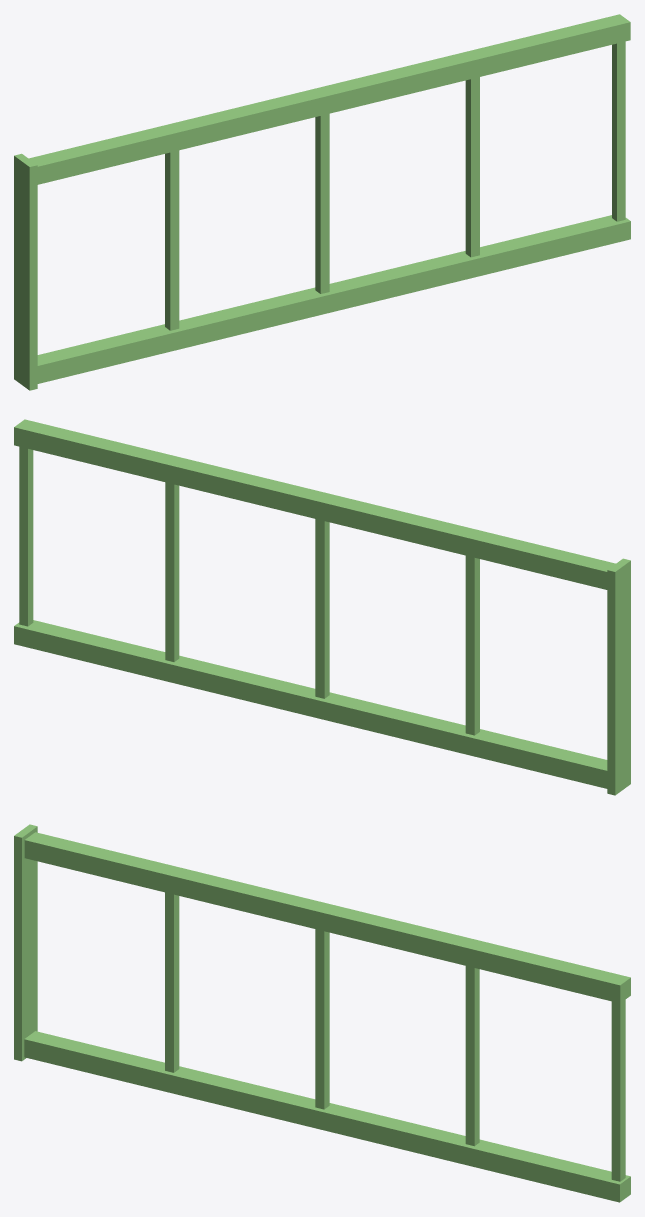
The model's file is Platform_Rail_Mid.fbx.
The picture shows the model from 3 angles, top to bottom: view 1: azimuth 30°, elevation 25°; view 2: azimuth 150°, elevation 25°; view 3: azimuth 330°, elevation 25°; orthographic projection.
Parts seen in each view (by area): view 1: Platform_Rail_Mid; view 2: Platform_Rail_Mid; view 3: Platform_Rail_Mid.
Boxes of the visible parts, box(x1,y1,x2,y2) form: Platform_Rail_Mid: box(14, 14, 630, 390); Platform_Rail_Mid: box(14, 419, 630, 795); Platform_Rail_Mid: box(14, 824, 630, 1202).
Bounding box in the file's own units: 250 × 88.5 × 11.3.
